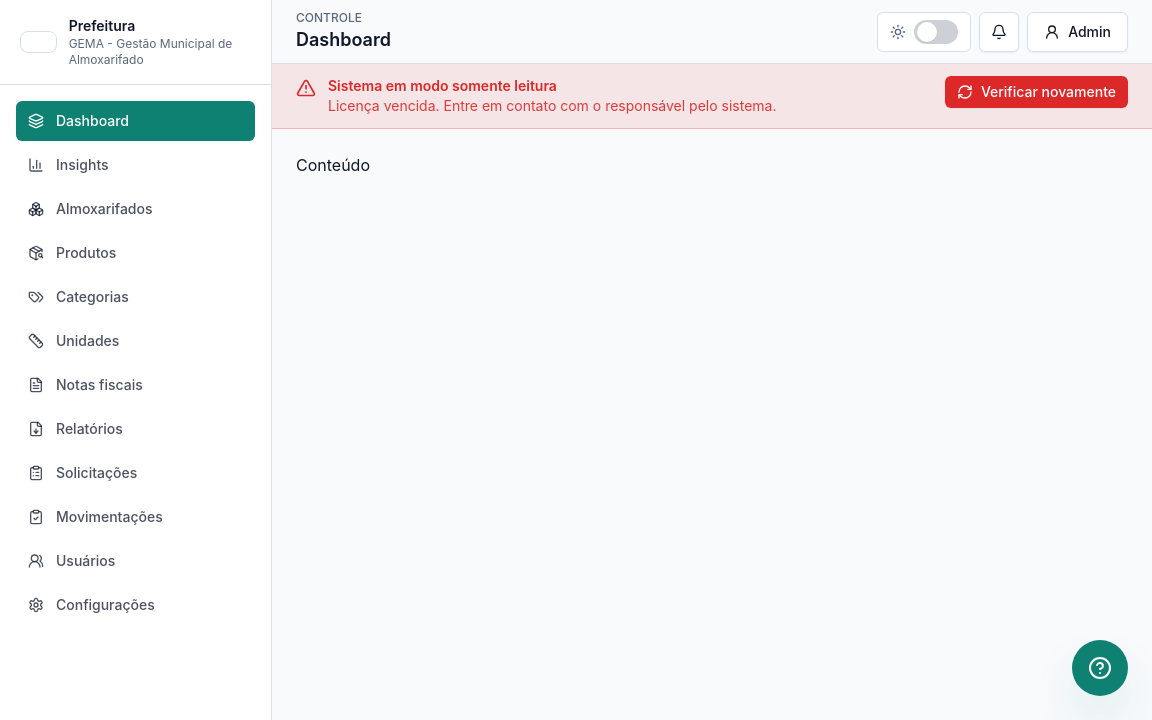
AppShell › lets users manually retry blocked license validation from the banner
What coordinates should you click on to do the following:
click the button with aria-label "Verificar licença novamente"
I would click on:
 (1036, 92)
Its box is [945, 76, 1128, 108].
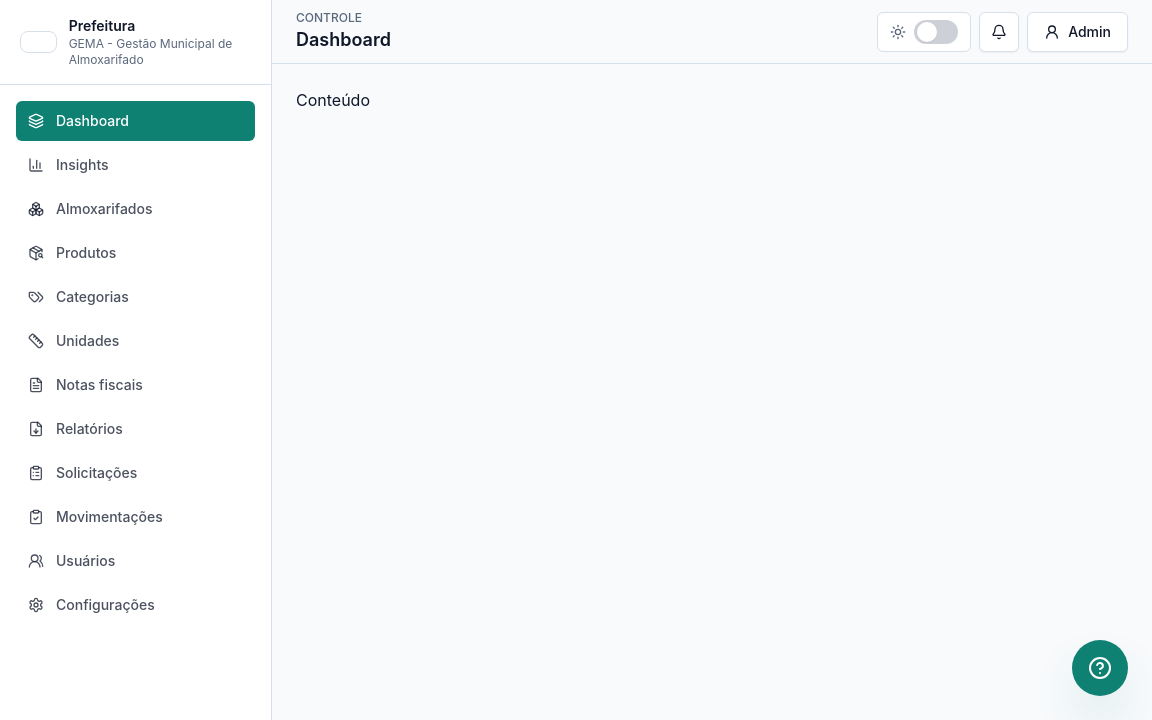
expect the text "Sistema em modo somente leitura" is gone: met
